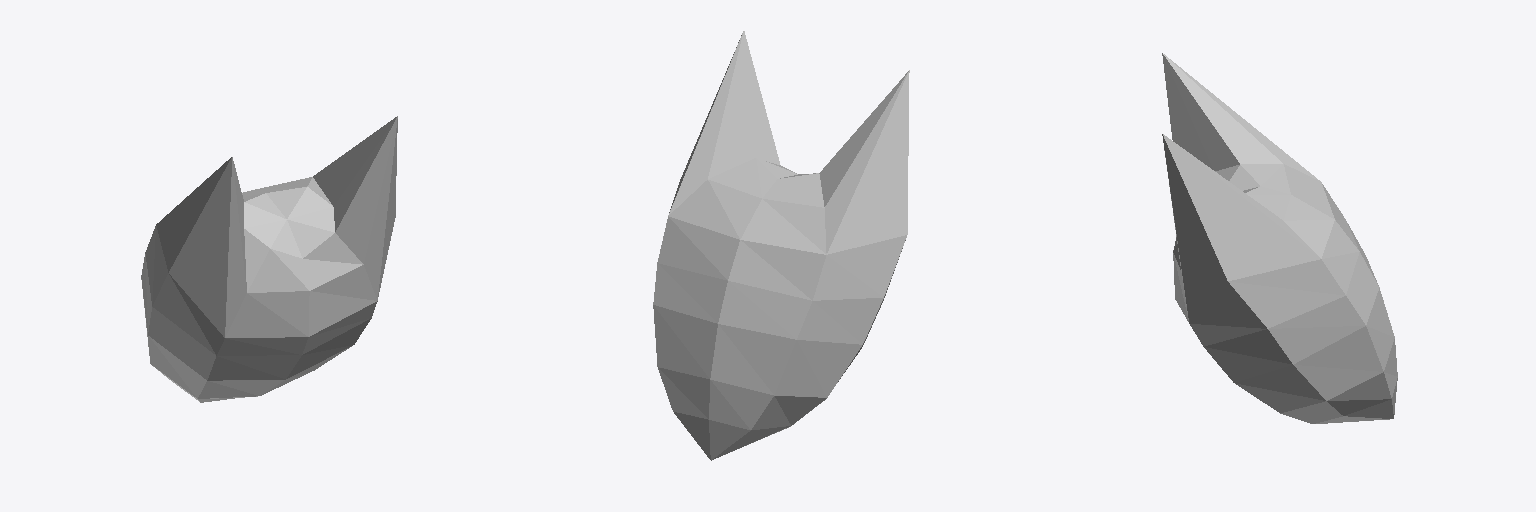
The model's file is hornetHead.obj.
3 renders of one model, left to right at view 1: azimuth 30°, elevation 25°; view 2: azimuth 150°, elevation 25°; view 3: azimuth 270°, elevation 25°, orthographic.
Parts seen in each view (by area): view 1: Sphere; view 2: Sphere; view 3: Sphere.
Boxes of the visible parts, x1,y1,x2,y2 form: Sphere: [141, 116, 397, 402]; Sphere: [653, 31, 909, 460]; Sphere: [1162, 53, 1397, 423].
Bounding box in the file's own units: 0.6964 × 0.9561 × 0.6261.